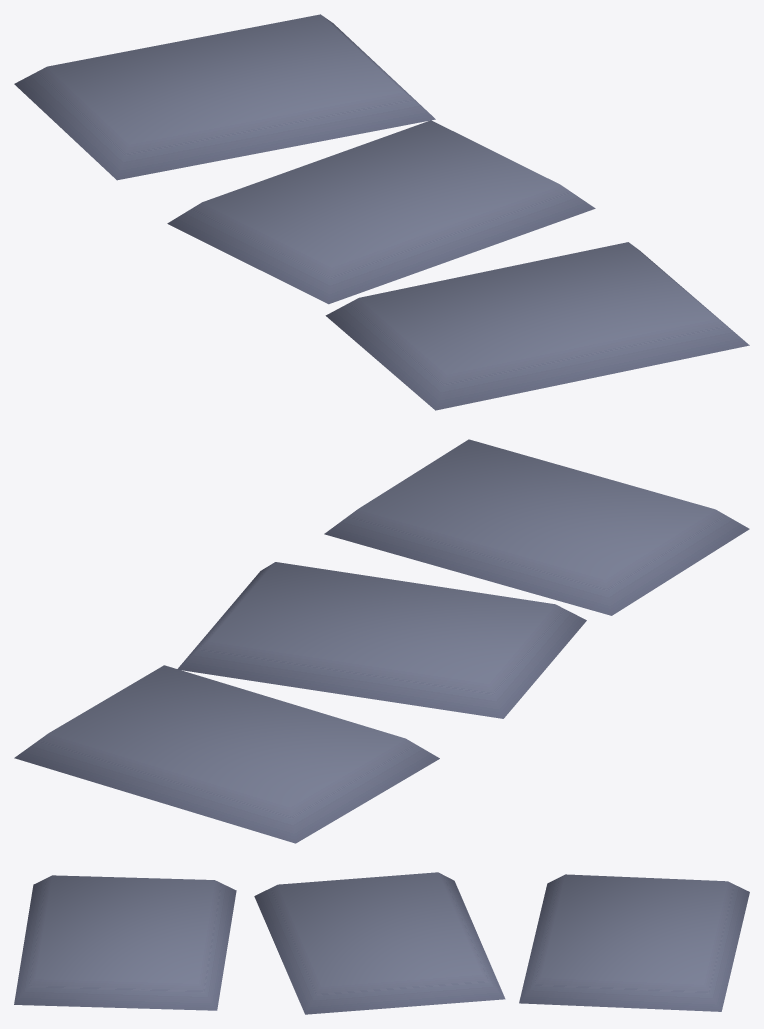
The model's file is path-stones-messy.glb.
3 views of the same model, one above another, from view 1: azimuth 30°, elevation 25°; view 2: azimuth 150°, elevation 25°; view 3: azimuth 270°, elevation 25° (orthographic). The views are drawn at different scales.
Visible parts, largest first — view 1: path-stones-messy; view 2: path-stones-messy; view 3: path-stones-messy.
Part boxes in pixels (x1,y1,x2,y2): path-stones-messy: (14,14,749,410); path-stones-messy: (14,439,749,843); path-stones-messy: (14,872,749,1014).
Size of the model in its own units: 0.1556 by 0.01 by 0.3614.
1 material, 1 textured.
